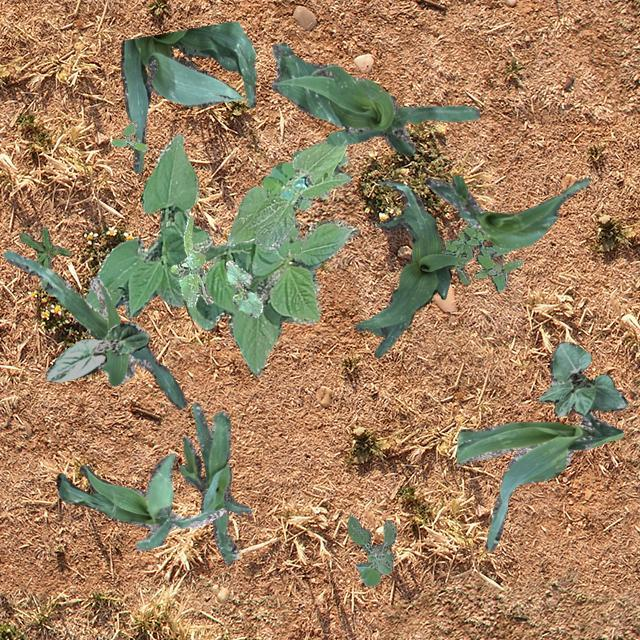crop: (84, 132, 358, 376), (2, 248, 185, 408), (456, 410, 622, 550), (271, 42, 478, 154), (120, 20, 256, 172), (354, 178, 454, 356), (56, 452, 226, 550), (226, 138, 348, 248), (424, 174, 588, 248), (178, 402, 252, 564), (536, 340, 626, 416), (44, 321, 148, 382), (224, 258, 262, 316)
weed: (262, 140, 346, 252), (441, 222, 522, 290), (170, 214, 212, 306), (346, 514, 396, 586), (19, 226, 69, 268), (110, 120, 148, 150)
